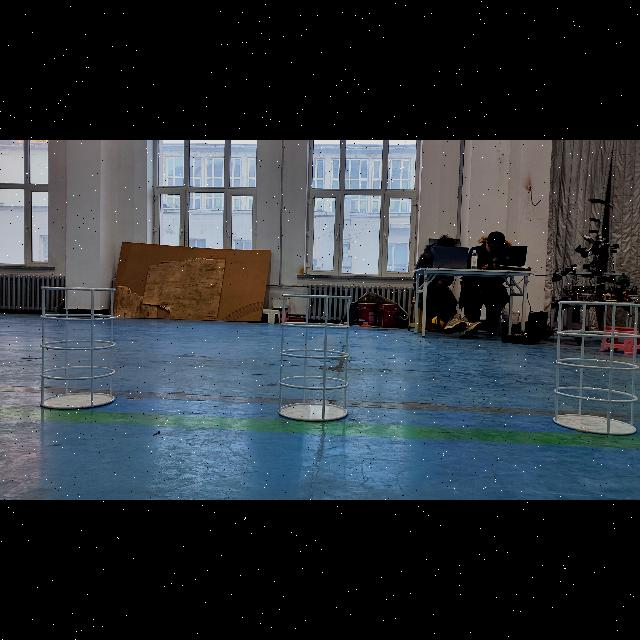S: (548, 296, 640, 440), (34, 283, 120, 413), (274, 290, 356, 426)
